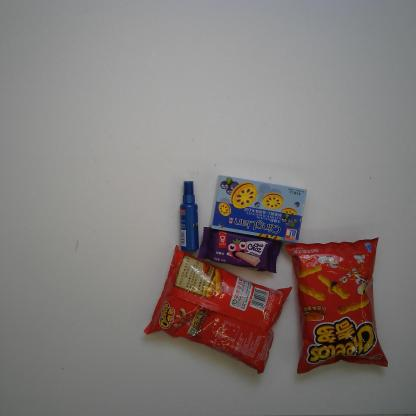Dessert: (209, 172, 309, 245), (197, 224, 283, 274)
Personal Hygiene: (178, 180, 202, 253)
Puffed Food: (141, 245, 295, 376), (284, 234, 390, 374)
